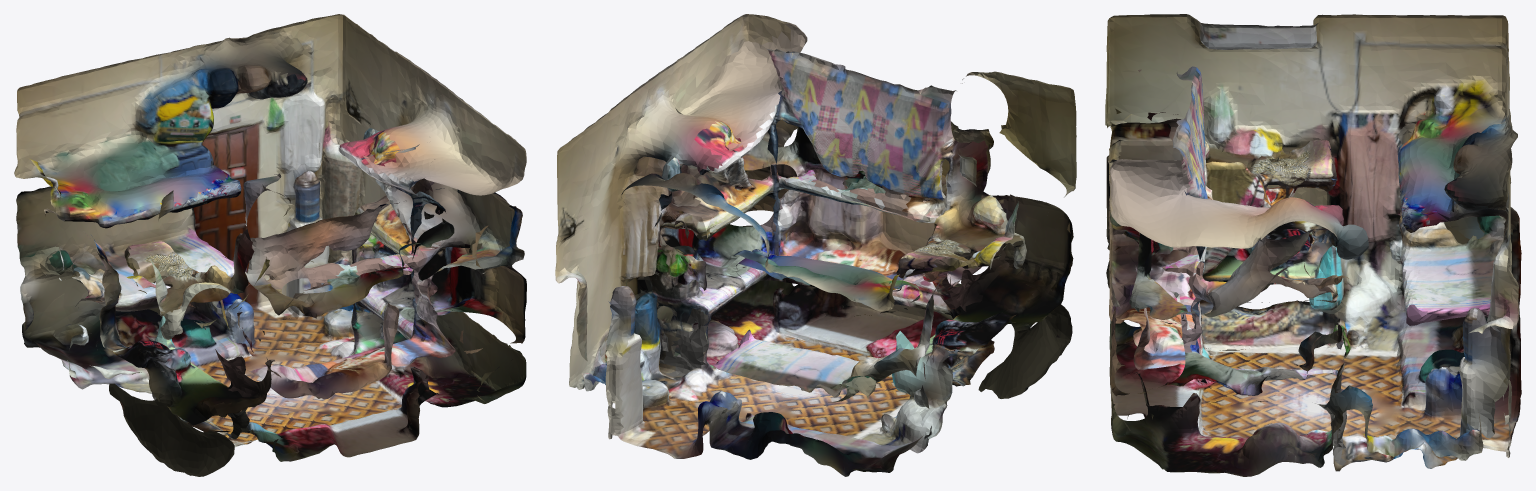
The picture shows the model from 3 angles, left to right: view 1: azimuth 30°, elevation 25°; view 2: azimuth 150°, elevation 25°; view 3: azimuth 270°, elevation 25°; orthographic projection. The views are drawn at different scales.
Bounding box in the file's own units: 3.65 × 2.93 × 3.66.
Materials: 1 (1 with a texture image).
